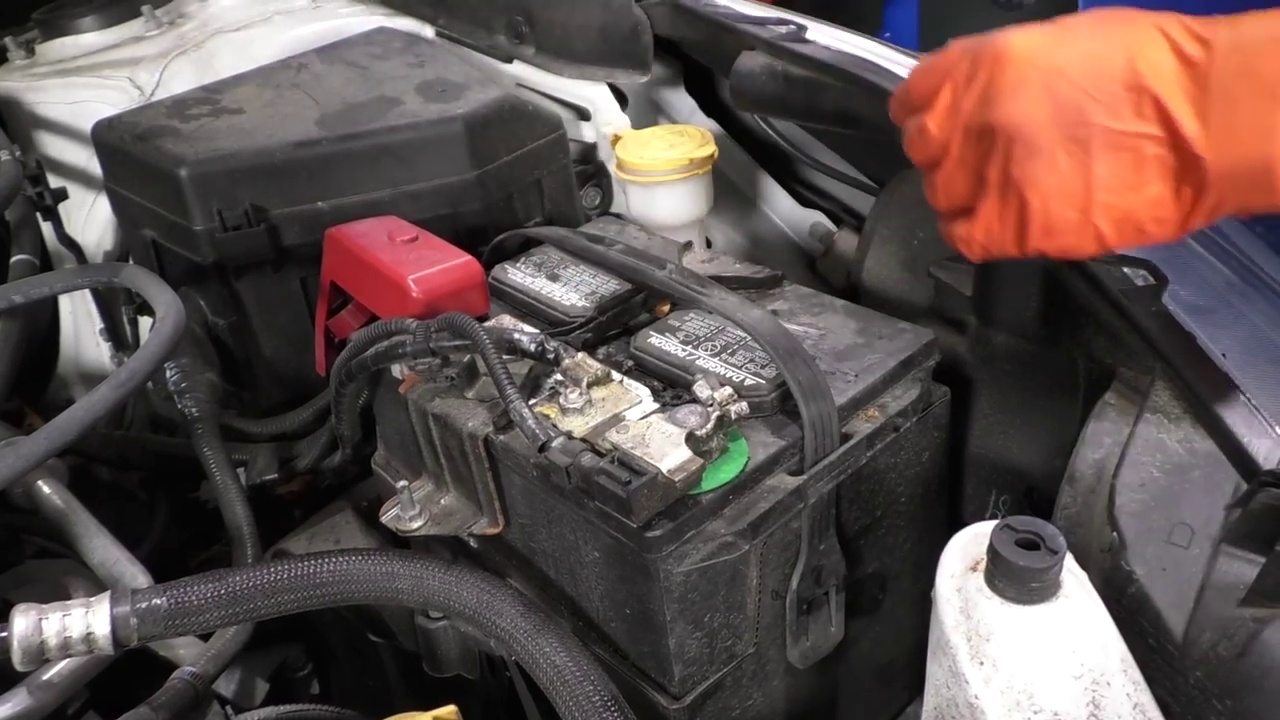battery: (319, 204, 924, 520)
neg_connected: (580, 379, 735, 490)
pos_connected: (302, 212, 506, 388)
